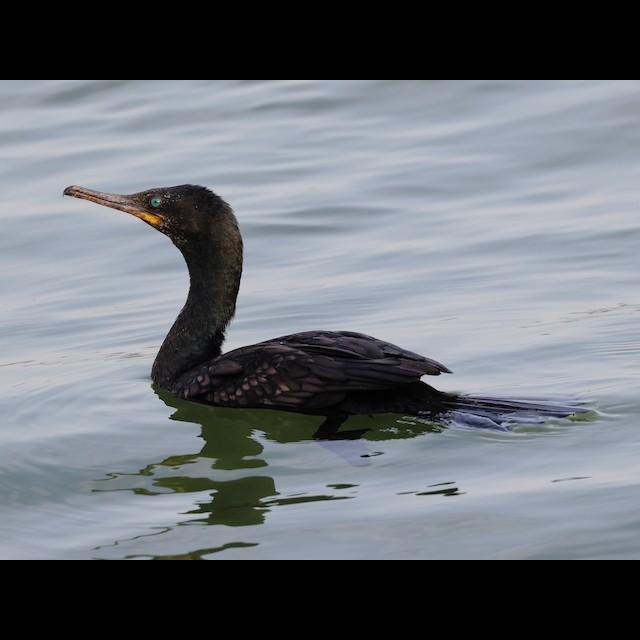cormorant: (61, 181, 603, 427)
